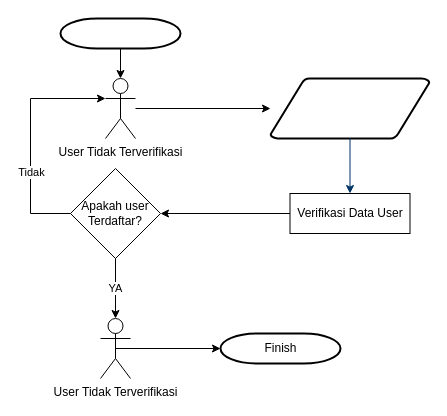
Some shapes in this 447 by 416 pixel diagram are drawn without their labels. The box of each missing label's shape, as (x1, y1, x2, y2) in pixels:
Data User Name & Password: (269, 77, 430, 139)
start: (59, 17, 181, 49)
